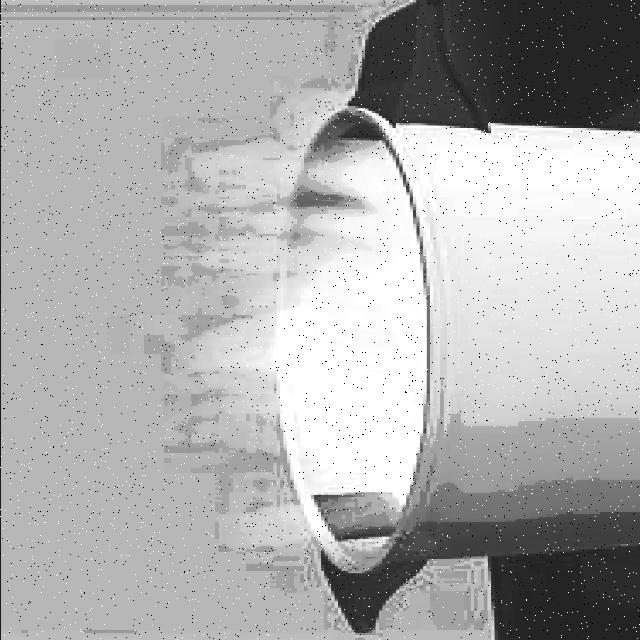api: (192, 129, 444, 560)
